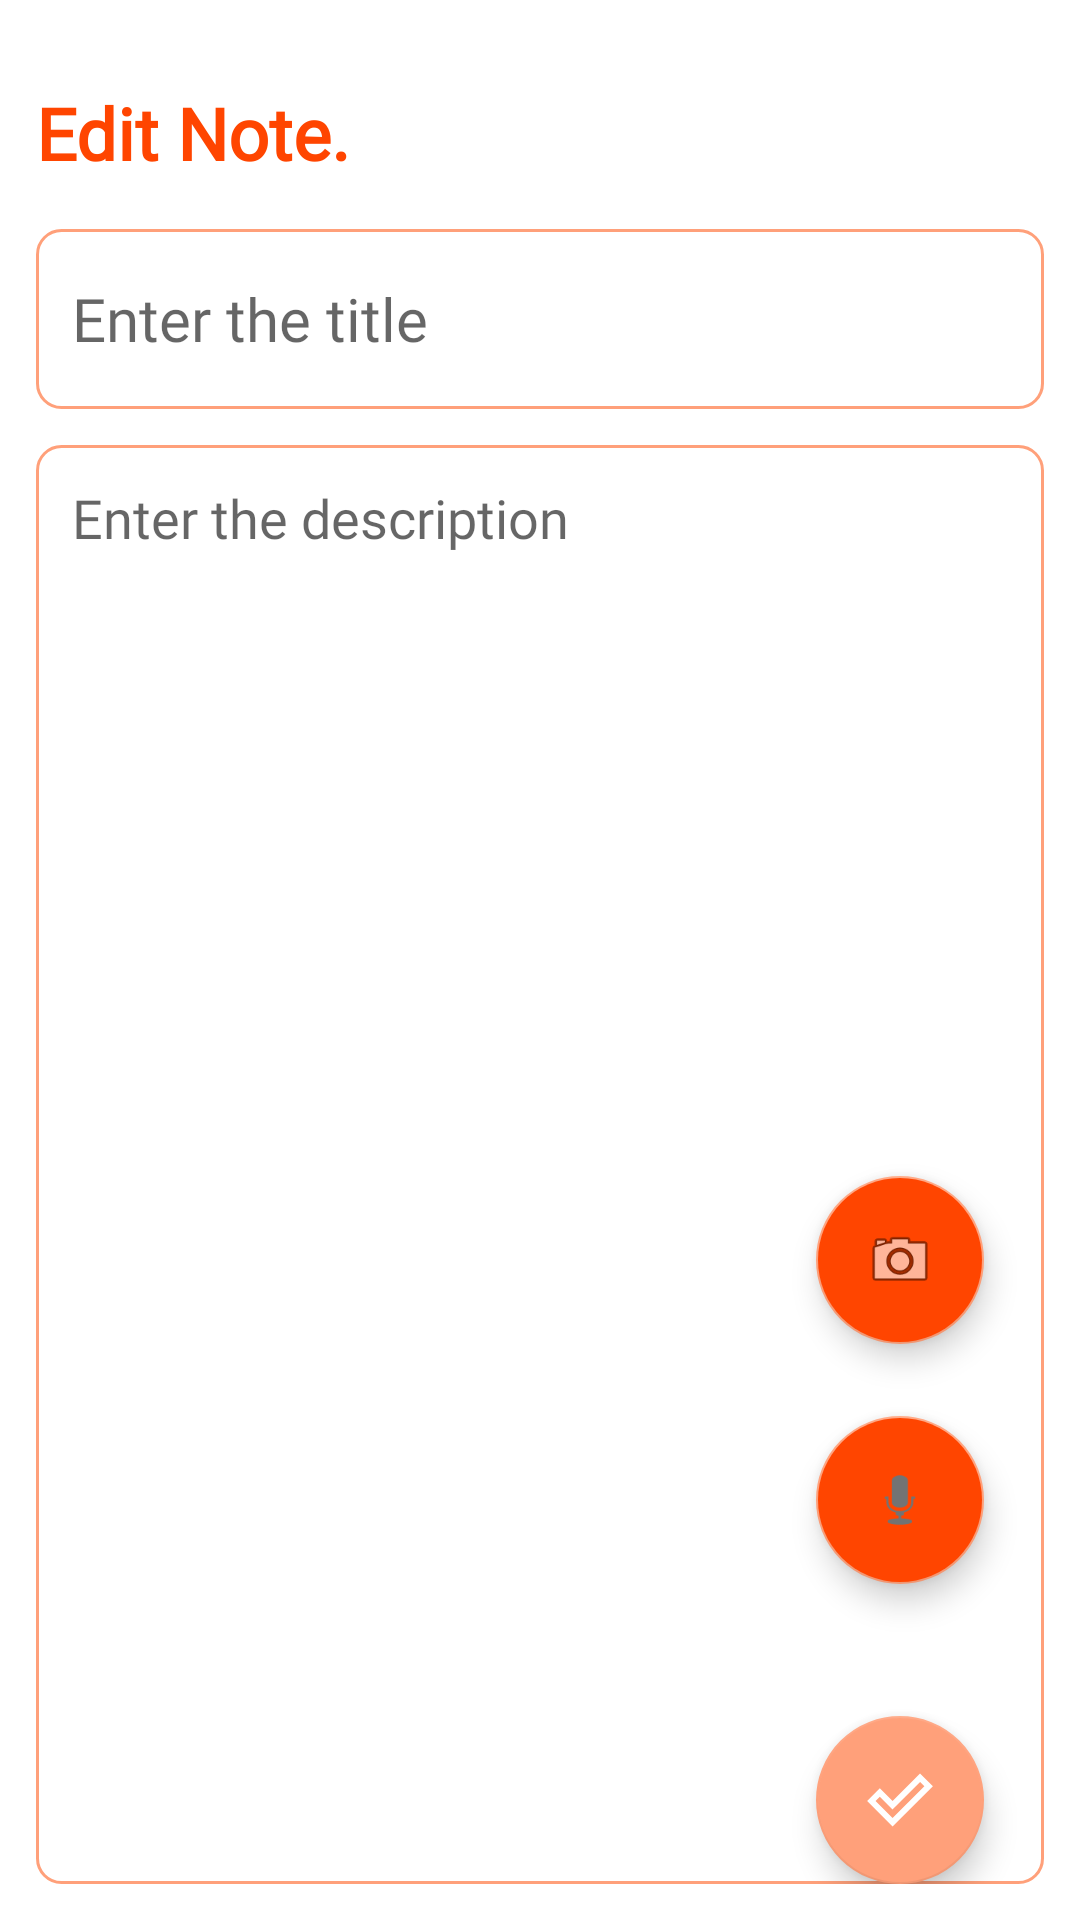

Named icons in this screenshot (1080*1920) and their centers, (x=x, y=y):
camera: (x=900, y=1260)
done: (x=900, y=1800)
speak now: (x=900, y=1500)
